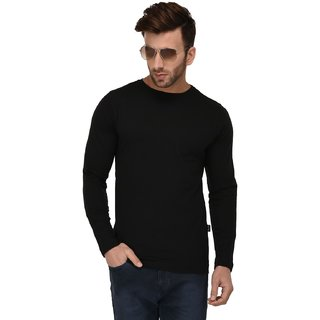T-Shirt: (81, 78, 250, 270)
